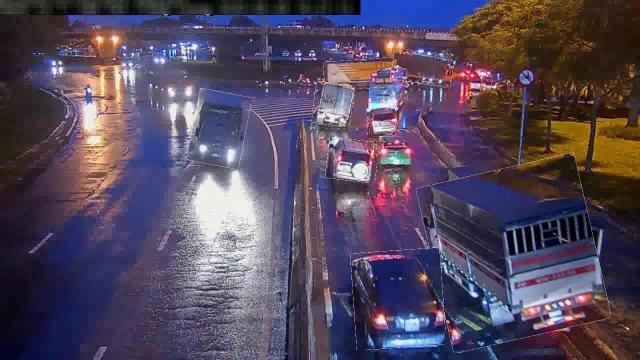Car: (352, 249, 444, 349), (326, 138, 378, 182), (374, 137, 411, 164), (367, 106, 397, 134)
Truck: (424, 160, 604, 346), (190, 90, 248, 168), (324, 58, 408, 90), (391, 54, 453, 86), (312, 82, 353, 126)
